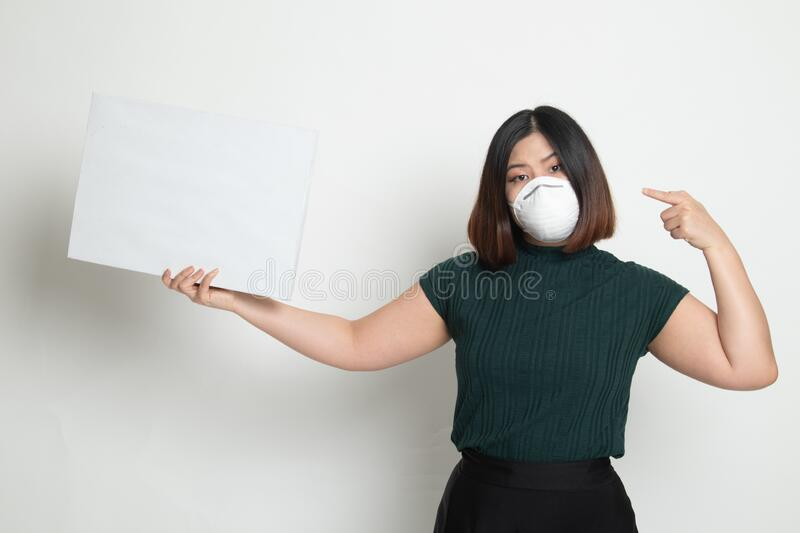n95: (508, 175, 583, 243)
